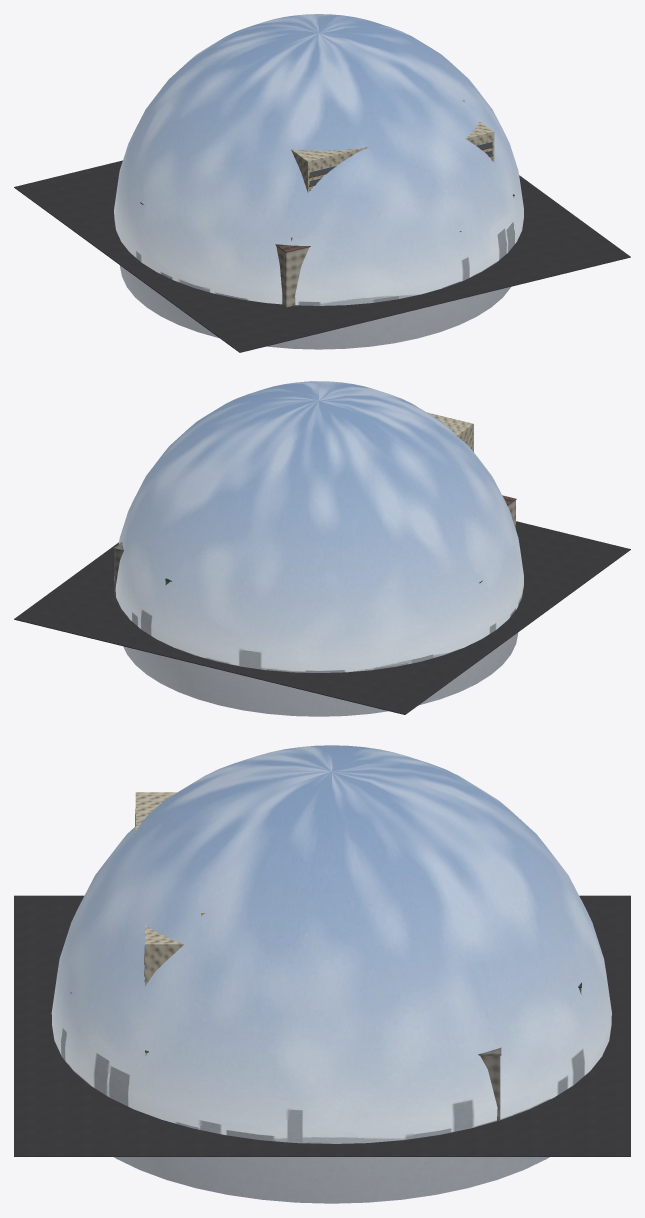
Rendered from prologue_apt.glb.
3 renders of one model, top to bottom at view 1: azimuth 30°, elevation 25°; view 2: azimuth 150°, elevation 25°; view 3: azimuth 270°, elevation 25°, orthographic. The views are drawn at different scales.
Parts seen in each view (by area): view 1: sky_backdrop, far, far_apts; view 2: sky_backdrop, far, far_apts; view 3: sky_backdrop, far, far_apts.
Part boxes in pixels (x1,y1,x2,y2): sky_backdrop: (114, 14, 523, 349); far: (14, 160, 630, 352); far_apts: (291, 99, 494, 192); sky_backdrop: (114, 381, 523, 716); far: (14, 495, 630, 714); far_apts: (427, 412, 473, 451); sky_backdrop: (51, 745, 611, 1203); far: (14, 895, 630, 1156); far_apts: (135, 792, 205, 986).
Size of the model in its own units: 132 by 74.92 by 132.
Materials: 91 (50 with a texture image).
